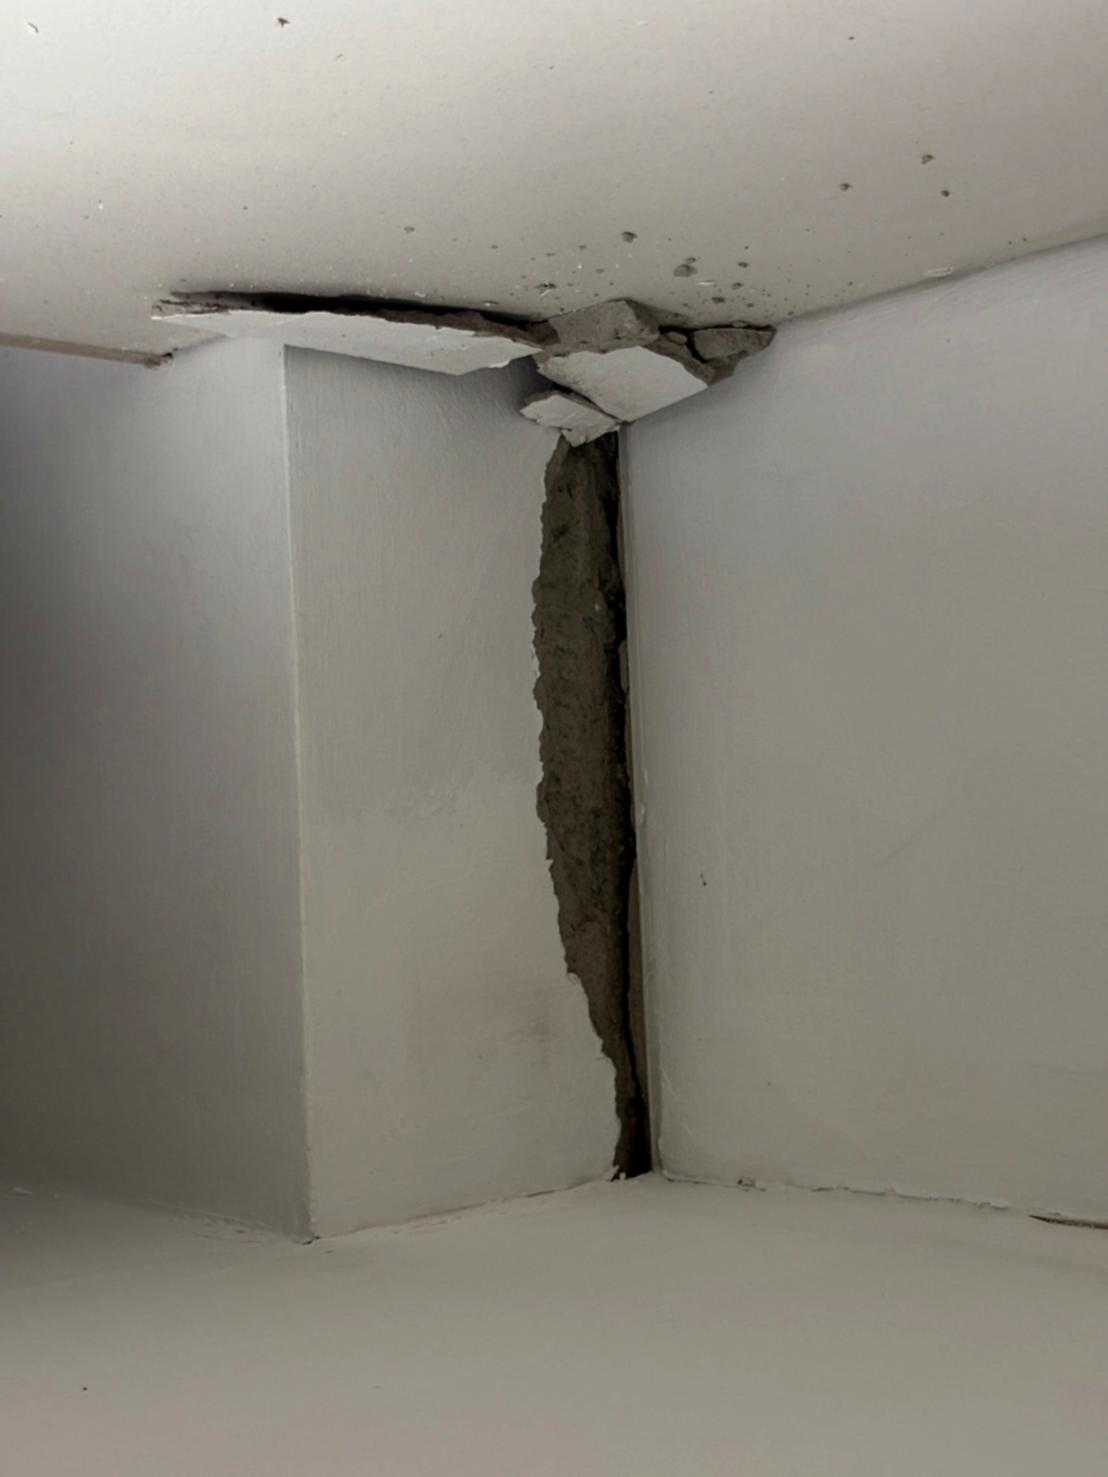High: (490, 418, 705, 1216)
